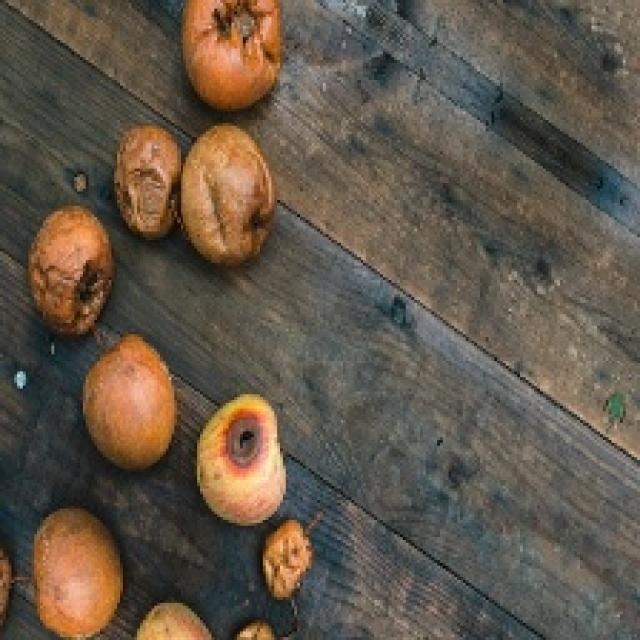rotten_apple: (84, 338, 174, 468), (188, 127, 272, 266), (199, 394, 285, 518), (30, 517, 123, 631), (184, 0, 280, 108), (29, 211, 110, 327), (115, 125, 177, 236)
